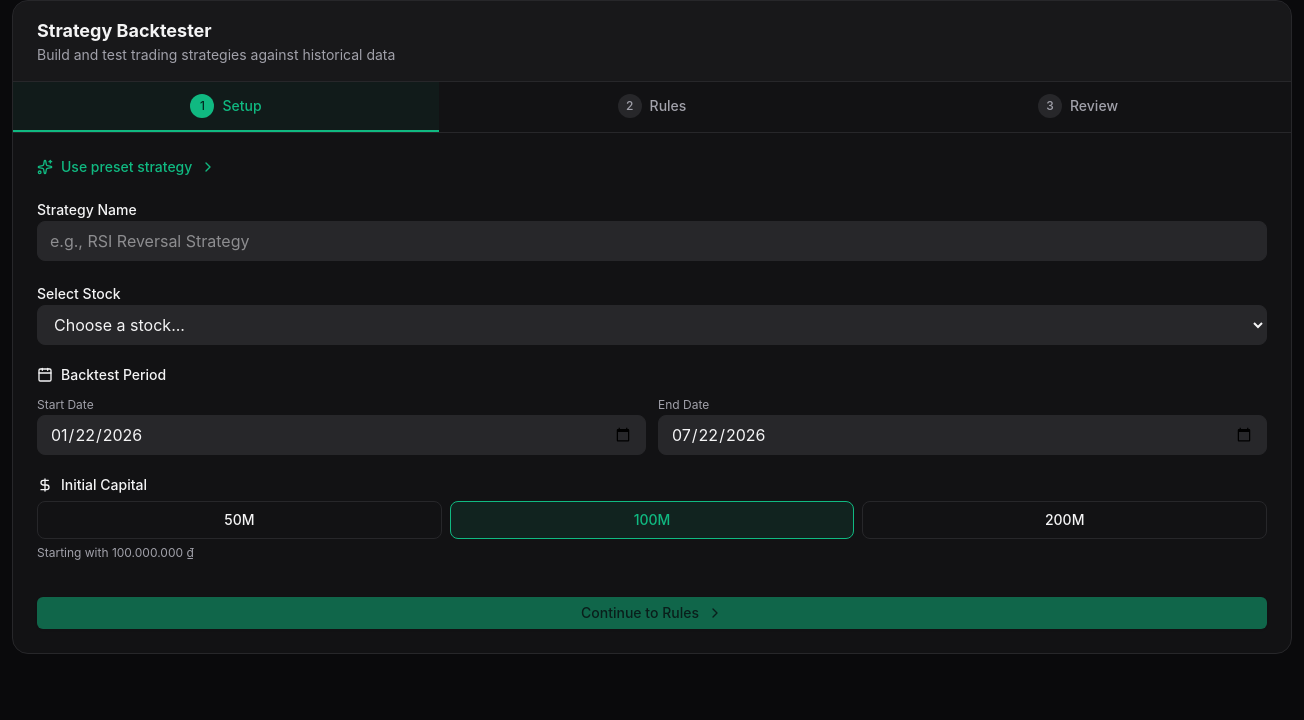
Scenario: BacktestForm › adds a new rule when Add Rule is clicked
Note: Navigate to step 2
In the field with placeholder "e.g., RSI Reversal Strategy": (652, 241) 37,221 -> 1267,261, type "My Strategy"
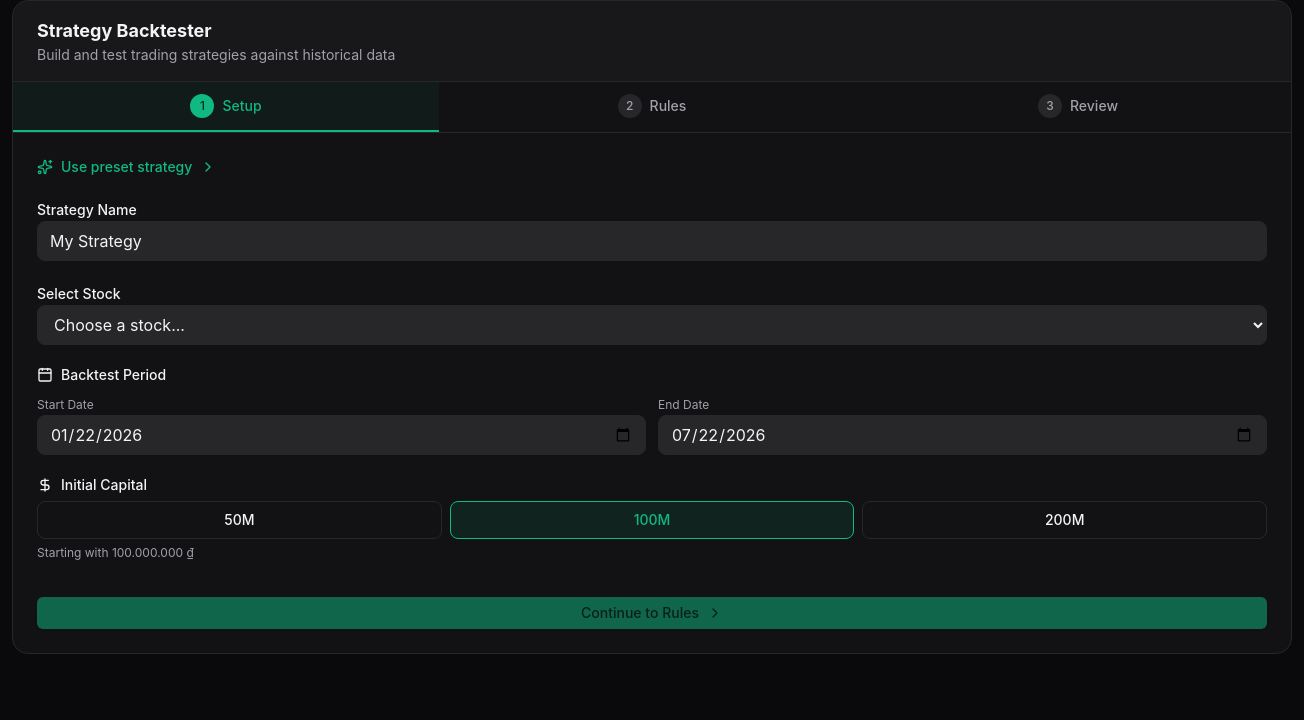
Select "FPT - FPT Corporation" in the dropdown: (652, 325) 37,305 -> 1267,345
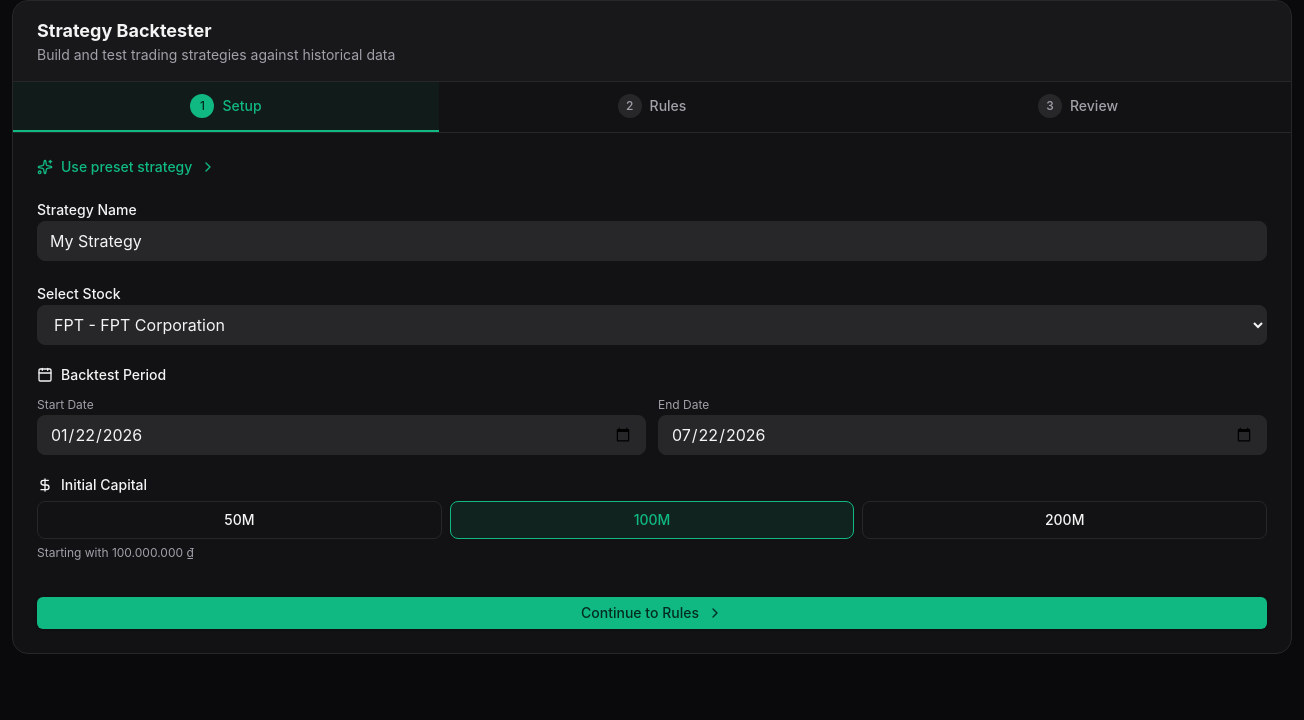
Click the button "Continue to Rules": (652, 613) 37,597 -> 1267,629
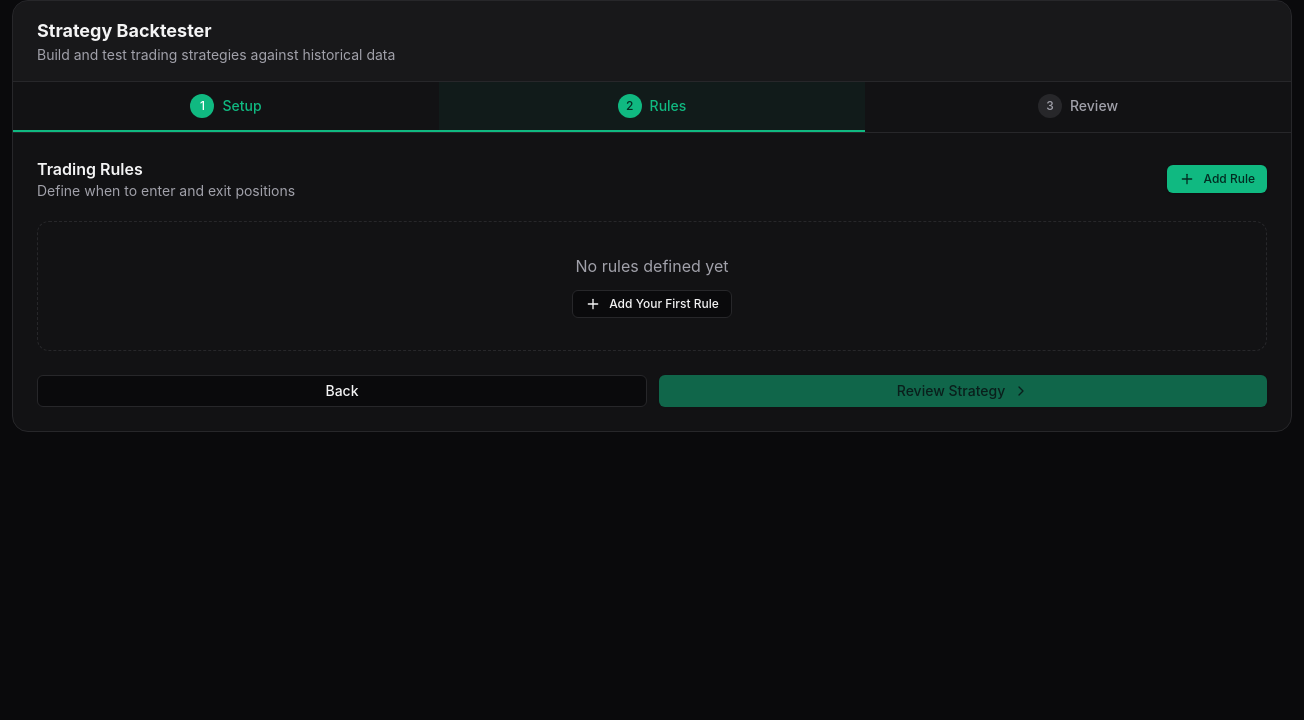
Click the button "Add Rule": (1217, 179) 1168,165 -> 1267,193
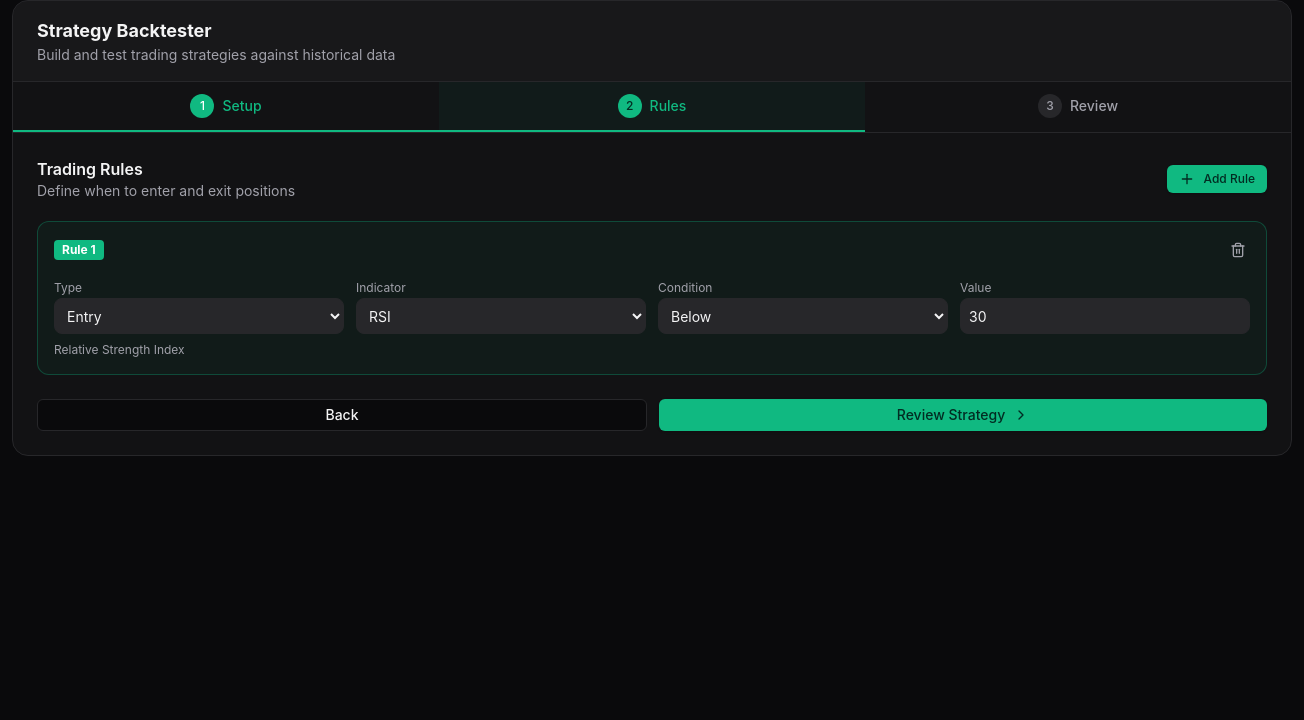
Expected: the text "Rule 1" is shown, 54,240 -> 104,260
